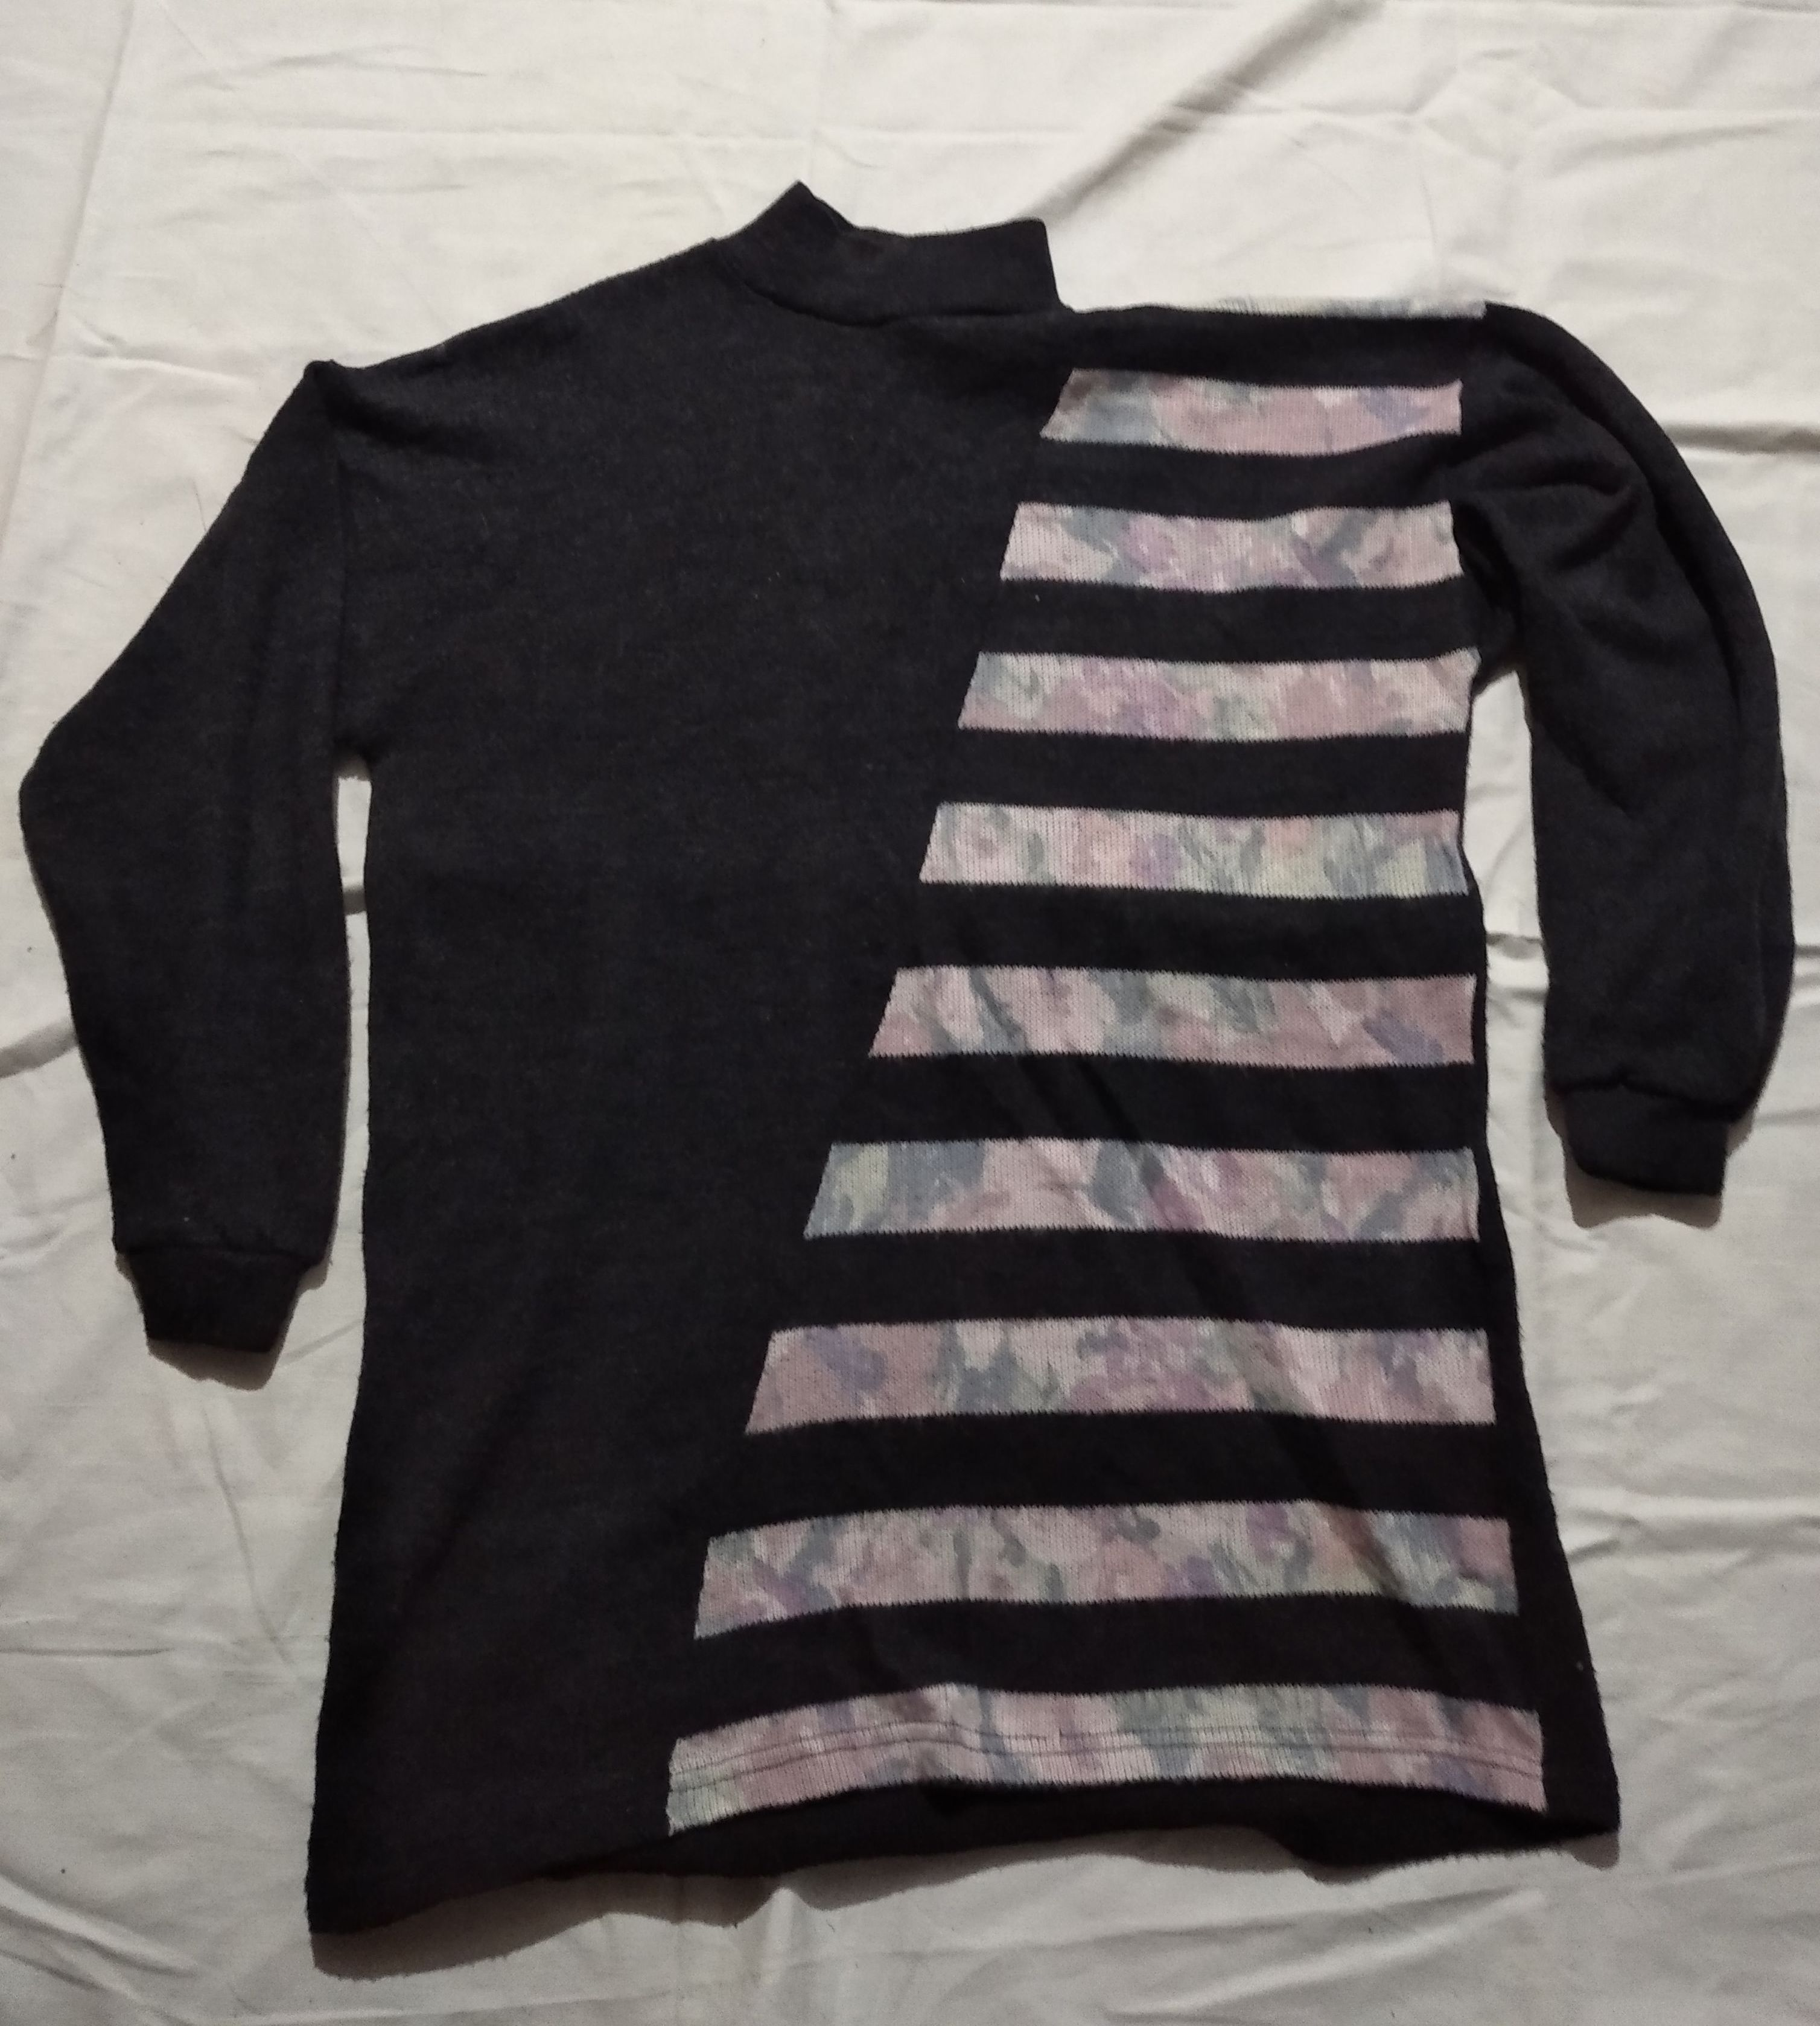clothes: (7, 188, 1820, 1956)
